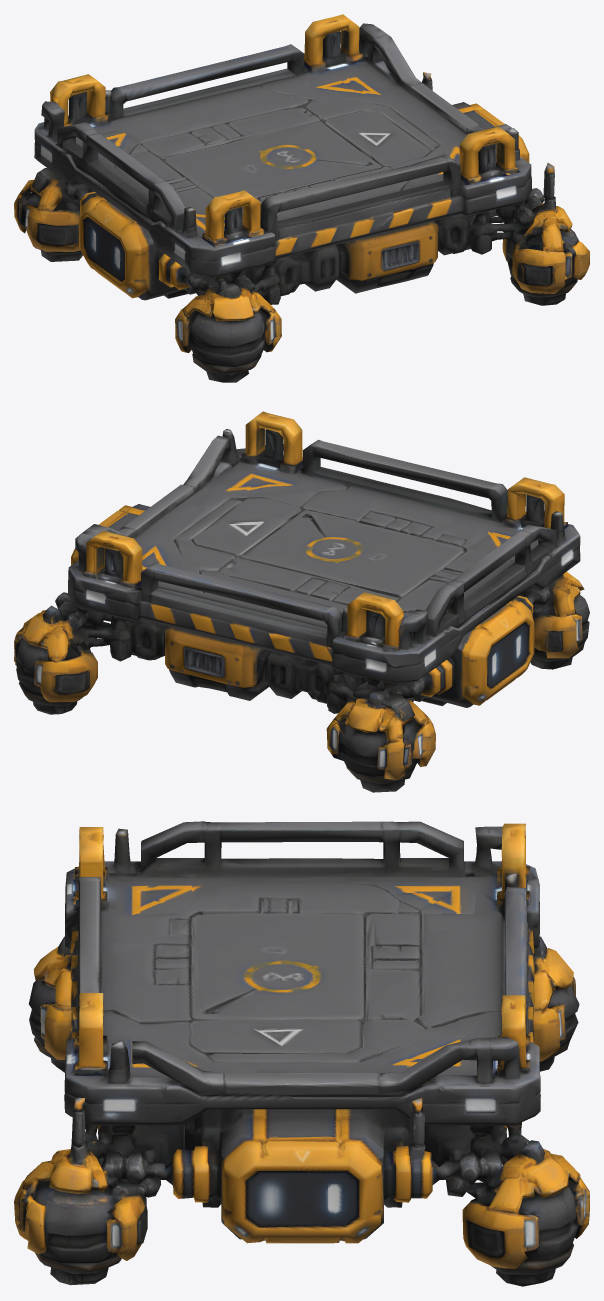
File: 三维机器人底盘模型.fbx
The picture shows the model from 3 angles, top to bottom: view 1: azimuth 30°, elevation 25°; view 2: azimuth 150°, elevation 25°; view 3: azimuth 270°, elevation 25°; orthographic projection. The views are drawn at different scales.
Parts seen in each view (by area): view 1: tripo_node_e2e33192-5f5f-4429-a502-c95f0d682437; view 2: tripo_node_e2e33192-5f5f-4429-a502-c95f0d682437; view 3: tripo_node_e2e33192-5f5f-4429-a502-c95f0d682437.
Boxes of the visible parts, x1,y1,x2,y2 form: tripo_node_e2e33192-5f5f-4429-a502-c95f0d682437: (14, 14, 589, 382); tripo_node_e2e33192-5f5f-4429-a502-c95f0d682437: (14, 411, 589, 792); tripo_node_e2e33192-5f5f-4429-a502-c95f0d682437: (14, 821, 589, 1286).
Size of the model in its own units: 0.9802 by 0.4067 by 0.894.
1 material, 1 textured.
